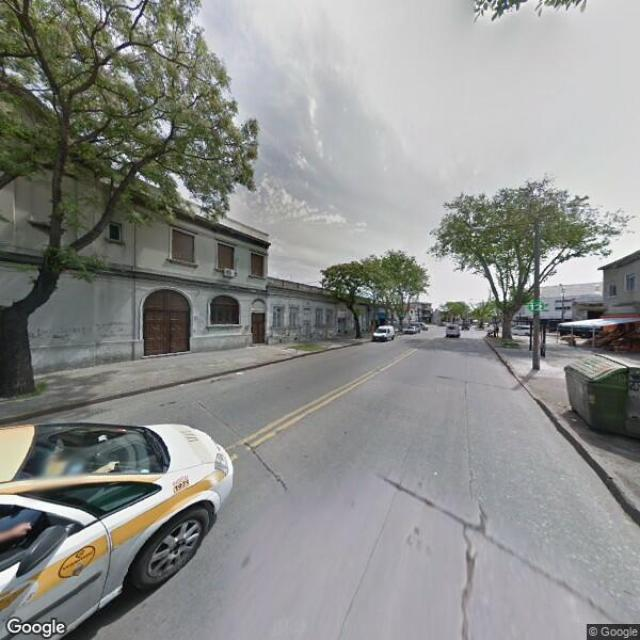garbage container: (559, 346, 640, 449)
